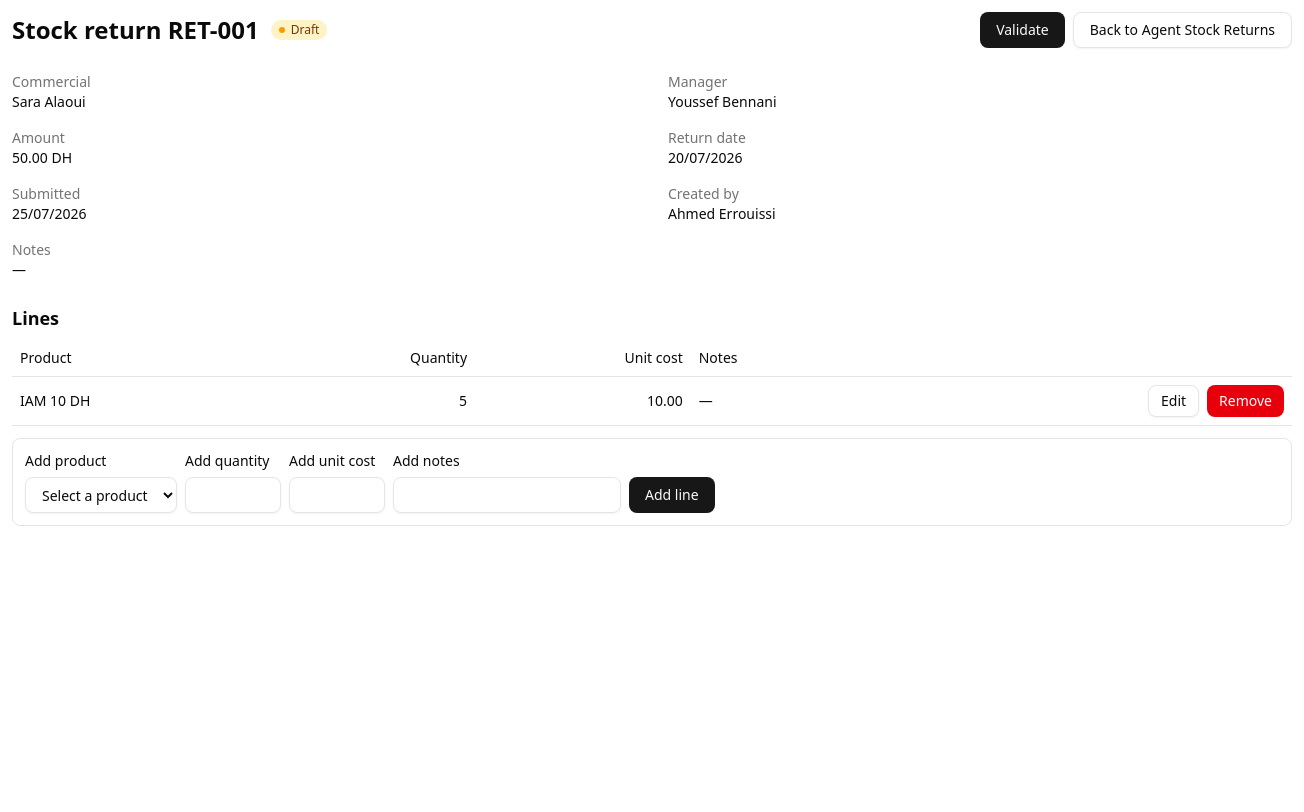
it: removing a line › shows domain-owned copy on a stock-insufficient refusal
Click the button "Remove". click: (1246, 401)
box: x1=1207 y1=385 x2=1284 y2=417
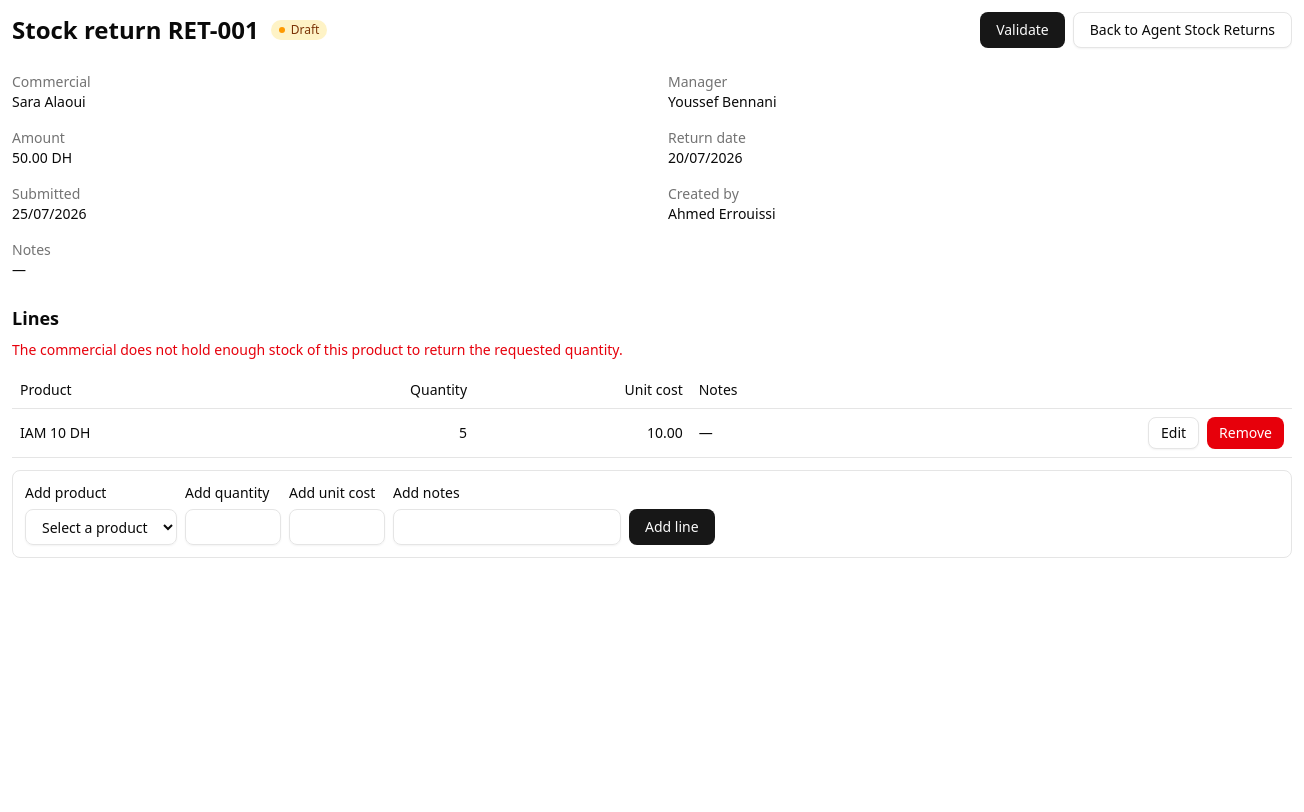
Now the text "The commercial does not hold enough stock of this product to return the requested quantity." is shown, box x1=12 y1=340 x2=623 y2=359
